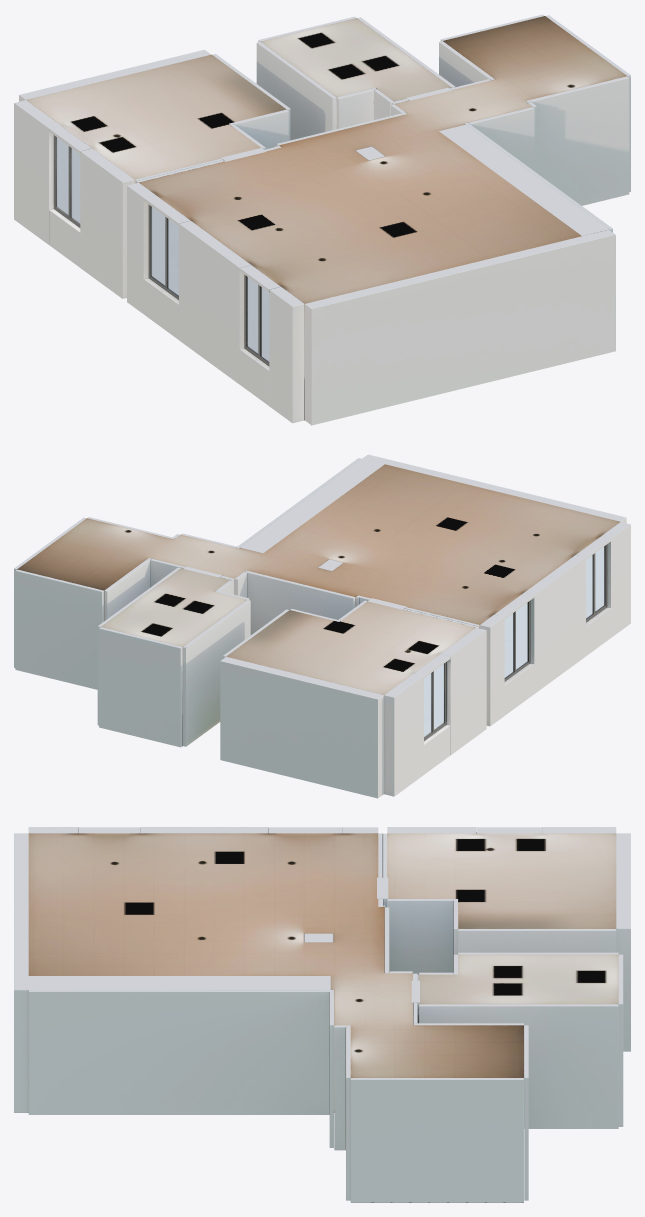
The model's file is flat.glb.
3 views of the same model, one above another, from view 1: azimuth 30°, elevation 25°; view 2: azimuth 150°, elevation 25°; view 3: azimuth 270°, elevation 25° (orthographic). The views are drawn at different scales.
Visible parts, largest first — view 1: zapec_telo_0, zapec_stropy_3, zapec_zdi_1, sklo_okno_67, sklo_okno_111, sklo_okno_74; view 2: zapec_telo_0, zapec_stropy_3, zapec_zdi_1, sklo_okno_67, sklo_okno_111, sklo_okno_74; view 3: zapec_telo_0, zapec_stropy_3, zapec_zdi_1.
Boxes of the visible parts, left/top/right/bottom form: zapec_telo_0: left=14, top=14, right=630, bottom=425; zapec_stropy_3: left=26, top=16, right=626, bottom=303; zapec_zdi_1: left=34, top=41, right=608, bottom=420; sklo_okno_67: left=151, top=207, right=178, bottom=295; sklo_okno_111: left=57, top=137, right=80, bottom=223; sklo_okno_74: left=247, top=277, right=269, bottom=361; zapec_telo_0: left=14, top=454, right=630, bottom=798; zapec_stropy_3: left=17, top=464, right=620, bottom=694; zapec_zdi_1: left=17, top=458, right=606, bottom=745; sklo_okno_67: left=504, top=603, right=527, bottom=677; sklo_okno_111: left=424, top=664, right=443, bottom=736; sklo_okno_74: left=586, top=546, right=604, bottom=618; zapec_telo_0: left=14, top=827, right=630, bottom=1202; zapec_stropy_3: left=28, top=833, right=618, bottom=1077; zapec_zdi_1: left=28, top=832, right=476, bottom=1112.
Bounding box in the file's own units: 11.92 × 2.71 × 12.3.
10 materials, 8 textured.
